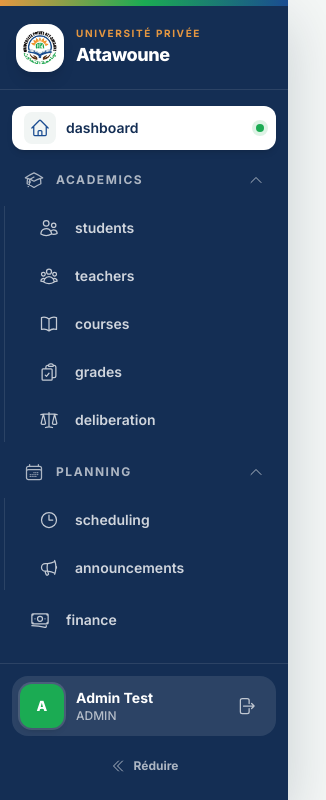
it: Sidebar direction-aware positioning › reports groups as collapsed when the desktop sidebar is collapsed
Click the button "Réduire" at (144, 766), box 12,744 -> 276,788
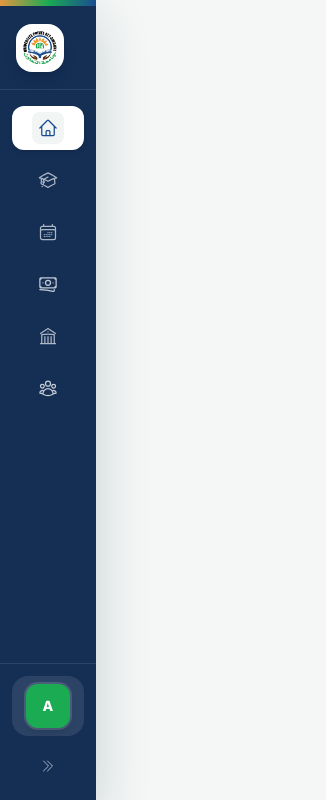
Expected: the button named "academics" is collapsed, 12,158 -> 84,202
